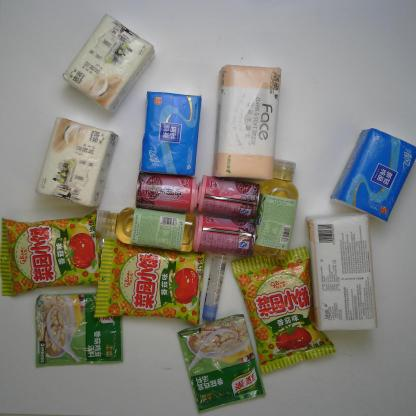Canned Food: (196, 176, 260, 219), (134, 170, 198, 213), (191, 214, 256, 255)
Drink: (252, 160, 299, 261), (95, 206, 195, 252)
Puffed Food: (231, 246, 338, 376), (94, 240, 206, 326), (0, 209, 104, 297)
Seasoner: (176, 313, 267, 413), (33, 292, 124, 368)
Stationery: (202, 252, 227, 323)
Tissue: (61, 13, 156, 115), (305, 212, 380, 332), (330, 127, 416, 224), (213, 65, 282, 182), (34, 117, 120, 208), (140, 90, 202, 177)
